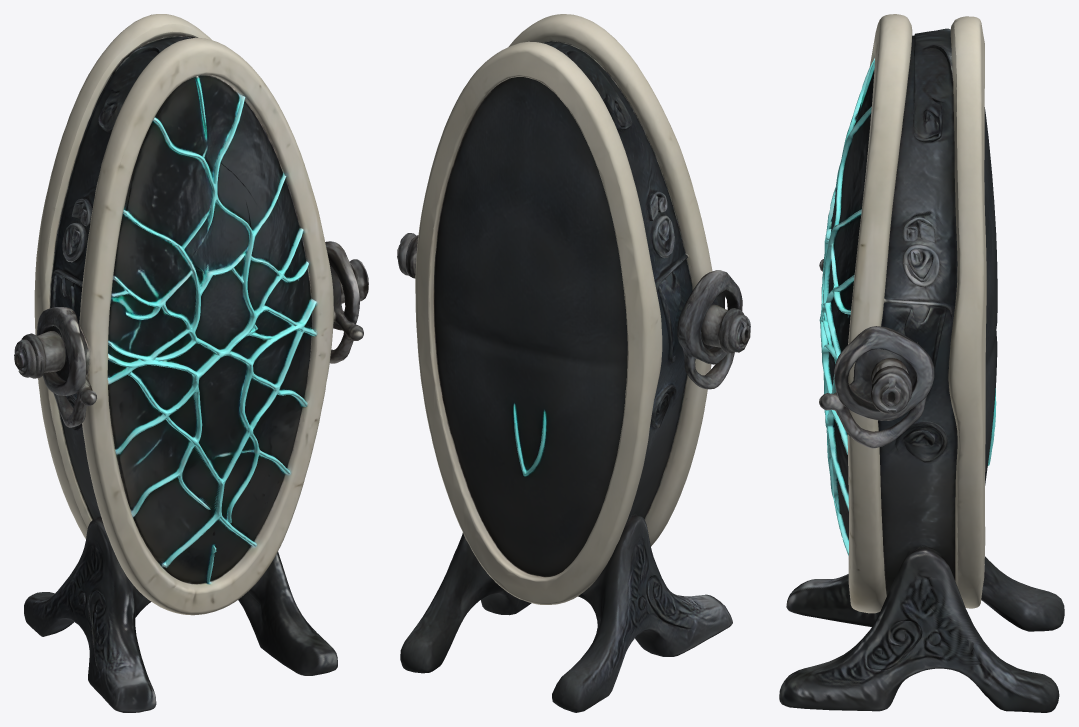
Rendered from prop_memory_loom.glb.
3 renders of one model, left to right at view 1: azimuth 30°, elevation 25°; view 2: azimuth 150°, elevation 25°; view 3: azimuth 270°, elevation 25°, orthographic. The views are drawn at different scales.
Parts seen in each view (by area): view 1: model; view 2: model; view 3: model.
Boxes of the visible parts, x1,y1,x2,y2 form: model: (14, 14, 368, 712); model: (397, 14, 750, 712); model: (779, 14, 1064, 712).
Bounding box in the file's own units: 1.11 × 1.9 × 0.7598.
Materials: 1 (1 with a texture image).
